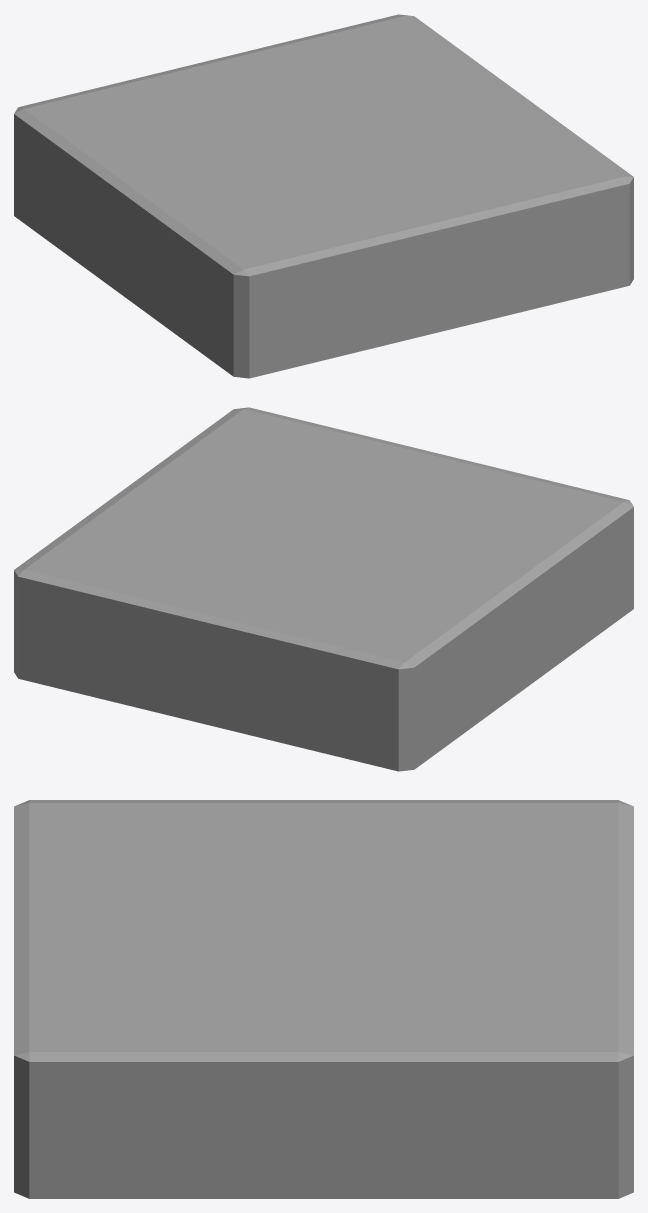
The model's file is Character_Fence1_Skin0.fbx.
3 renders of one model, top to bottom at view 1: azimuth 30°, elevation 25°; view 2: azimuth 150°, elevation 25°; view 3: azimuth 270°, elevation 25°, orthographic. The views are drawn at different scales.
Visible parts, largest first — view 1: Character_Fence1_Skin0.4x4; view 2: Character_Fence1_Skin0.4x4; view 3: Character_Fence1_Skin0.4x4.
Part boxes in pixels (bbox=[...]): Character_Fence1_Skin0.4x4: bbox=[14, 14, 633, 378]; Character_Fence1_Skin0.4x4: bbox=[14, 407, 633, 771]; Character_Fence1_Skin0.4x4: bbox=[14, 800, 633, 1198].
Bounding box in the file's own units: 400 × 100 × 400.
